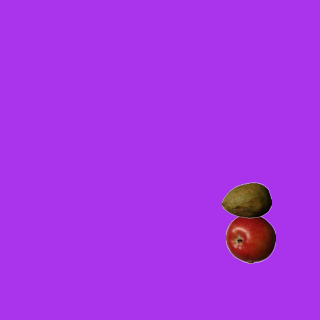Apple Braeburn: (225, 213, 275, 263)
Papaya: (221, 175, 271, 225)
